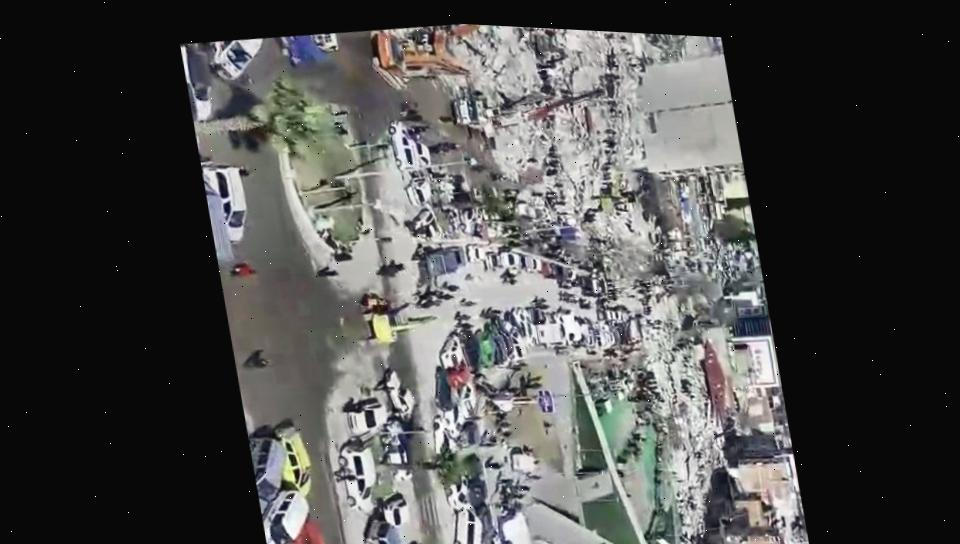kapali: (444, 84, 649, 251)
